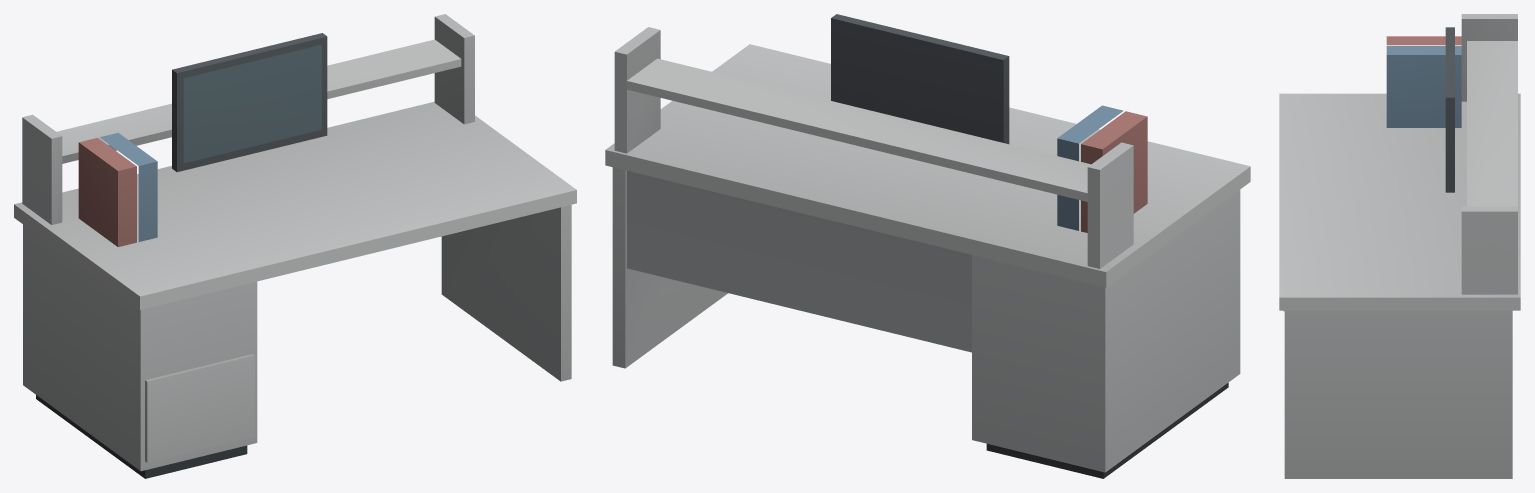
Rendered from desk.lod2.glb.
The picture shows the model from 3 angles, left to right: view 1: azimuth 30°, elevation 25°; view 2: azimuth 150°, elevation 25°; view 3: azimuth 270°, elevation 25°; orthographic projection. The views are drawn at different scales.
Size of the model in its own units: 1.8 by 1.26 by 0.9.
